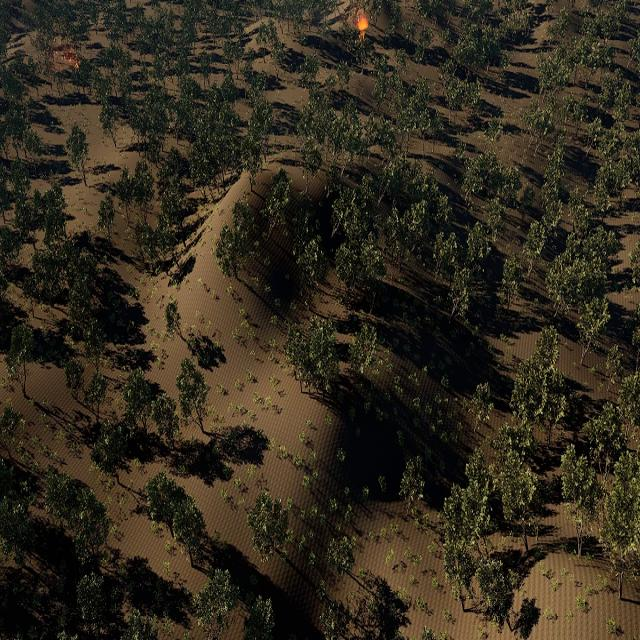fire: (59, 48, 81, 74), (358, 20, 367, 32)
